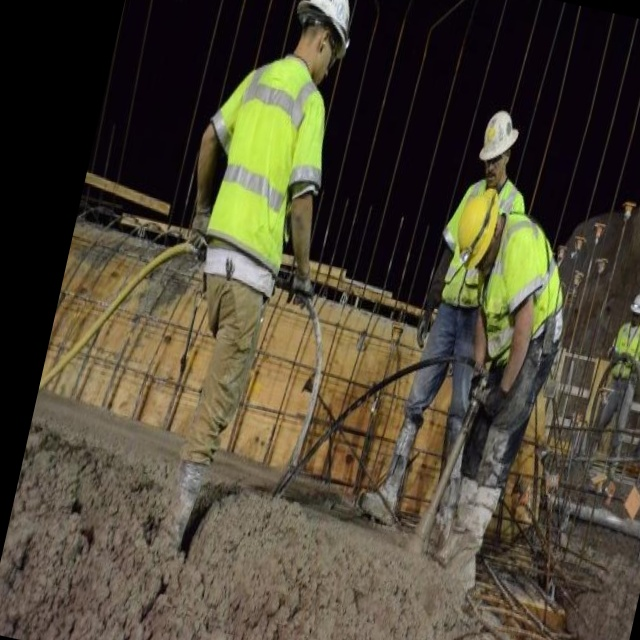Con_Casco: (449, 183, 509, 276), (289, 0, 364, 69), (473, 106, 524, 187)
Con_Chaleco: (199, 48, 333, 275), (474, 214, 575, 369)
